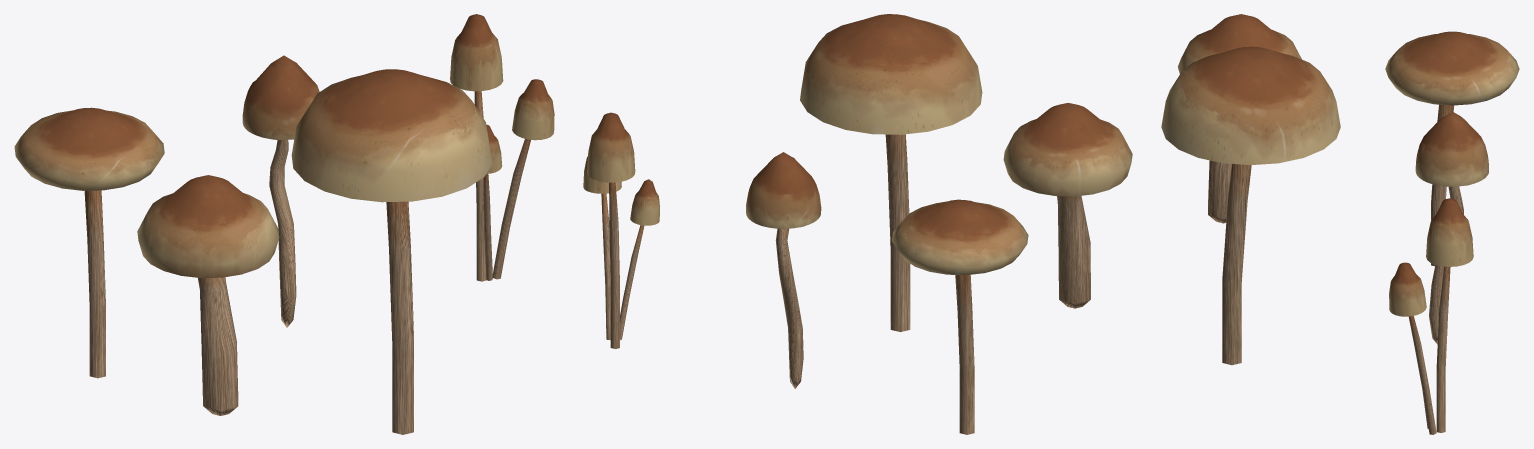
The model's file is mushroom.FBX.
3 views of the same model, side by side, from view 1: azimuth 30°, elevation 25°; view 2: azimuth 150°, elevation 25°; view 3: azimuth 270°, elevation 25° (orthographic). The views are drawn at different scales.
Visible parts, largest first — view 1: Cylinder001, Cylinder004, Cylinder003, Cylinder002, Cylinder005, Cylinder006, Cylinder007; view 2: Cylinder001, Cylinder004, Cylinder003, Cylinder002, Cylinder005, Cylinder007, Cylinder006; view 3: Cylinder001, Cylinder003, Cylinder002, Cylinder004, Cylinder005, Cylinder006.
Boxes of the visible parts, x1,y1,x2,y2 form: Cylinder001: (291,69,492,434); Cylinder004: (137,175,279,415); Cylinder003: (14,107,164,378); Cylinder002: (242,55,319,327); Cylinder005: (450,14,503,281); Cylinder006: (493,79,554,279); Cylinder007: (483,124,502,280); Cylinder001: (800,14,982,331); Cylinder004: (1003,103,1132,308); Cylinder003: (892,199,1028,434); Cylinder002: (746,152,821,388); Cylinder005: (587,112,635,348); Cylinder007: (620,179,659,339); Cylinder006: (583,156,621,340); Cylinder001: (1161,46,1340,365); Cylinder003: (1385,31,1519,266); Cylinder002: (1415,111,1488,344); Cylinder004: (1178,14,1301,223); Cylinder005: (1426,198,1473,432); Cylinder006: (1389,262,1436,434).
Bounding box in the file's own units: 168 × 111 × 117.
Materials: 2 (2 with a texture image).
